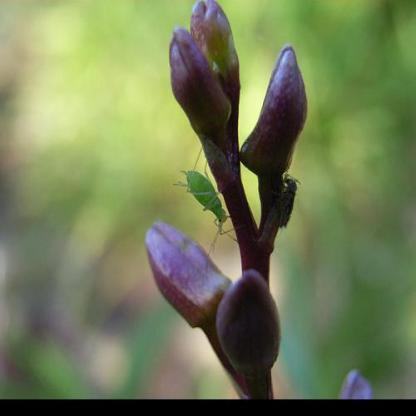aphid: (175, 144, 242, 246)
